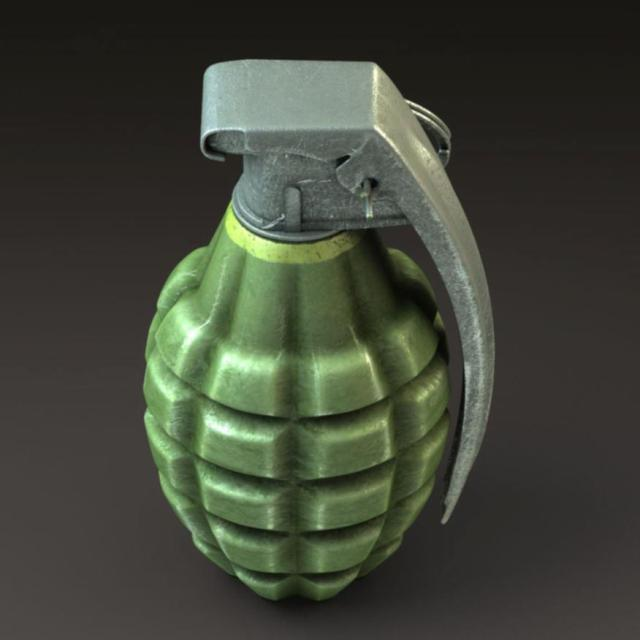grenade: (145, 60, 496, 604)
